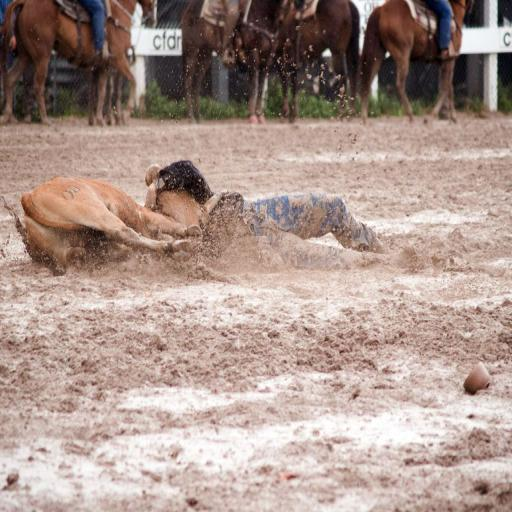horse: (3, 0, 158, 128), (180, 0, 306, 127), (360, 0, 466, 125), (276, 0, 360, 113)
